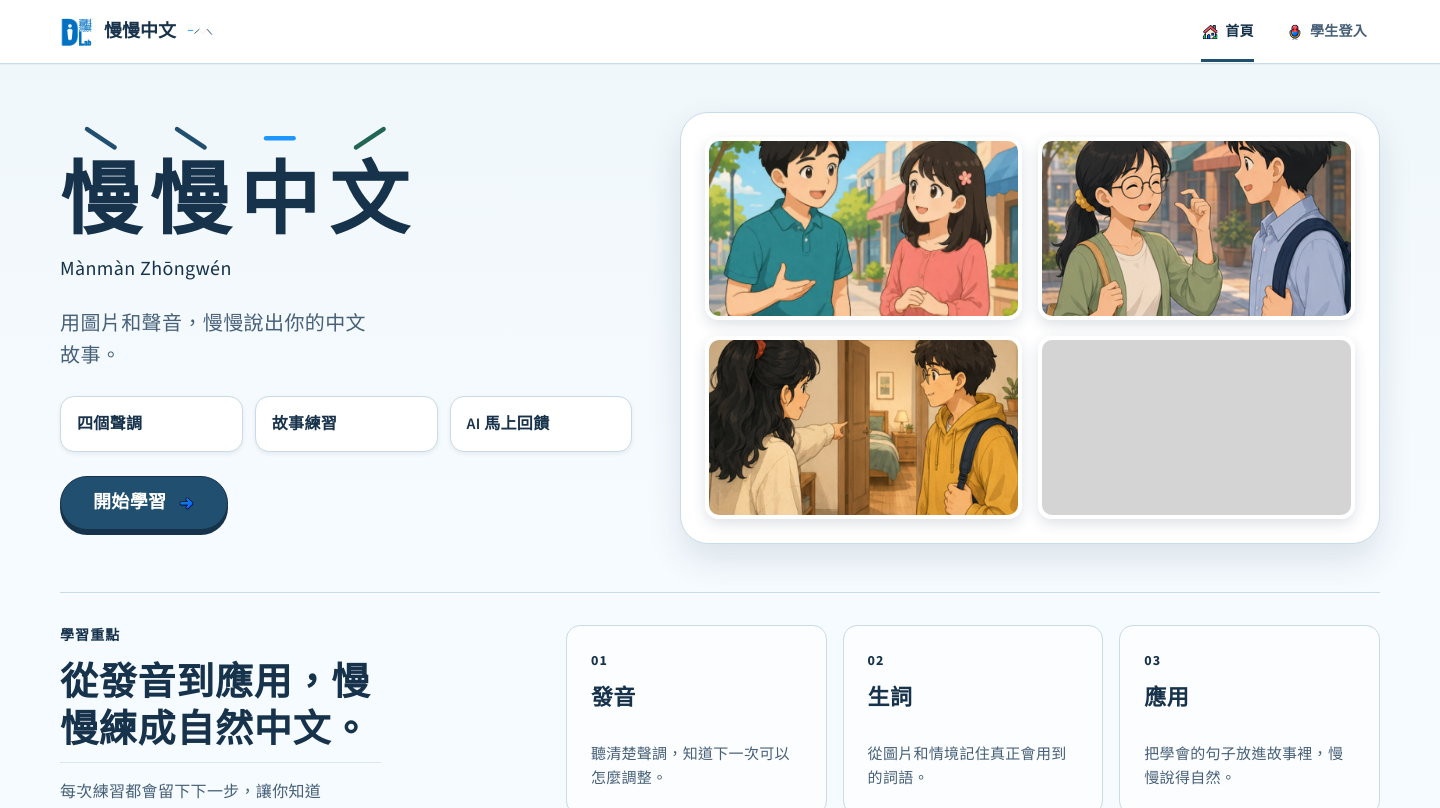
App role flows › moves from the public landing page into the learner workspace
The width and height of the screenshot is (1440, 808).
Click the button "開始學習": (144, 503) [60,476,228,530]
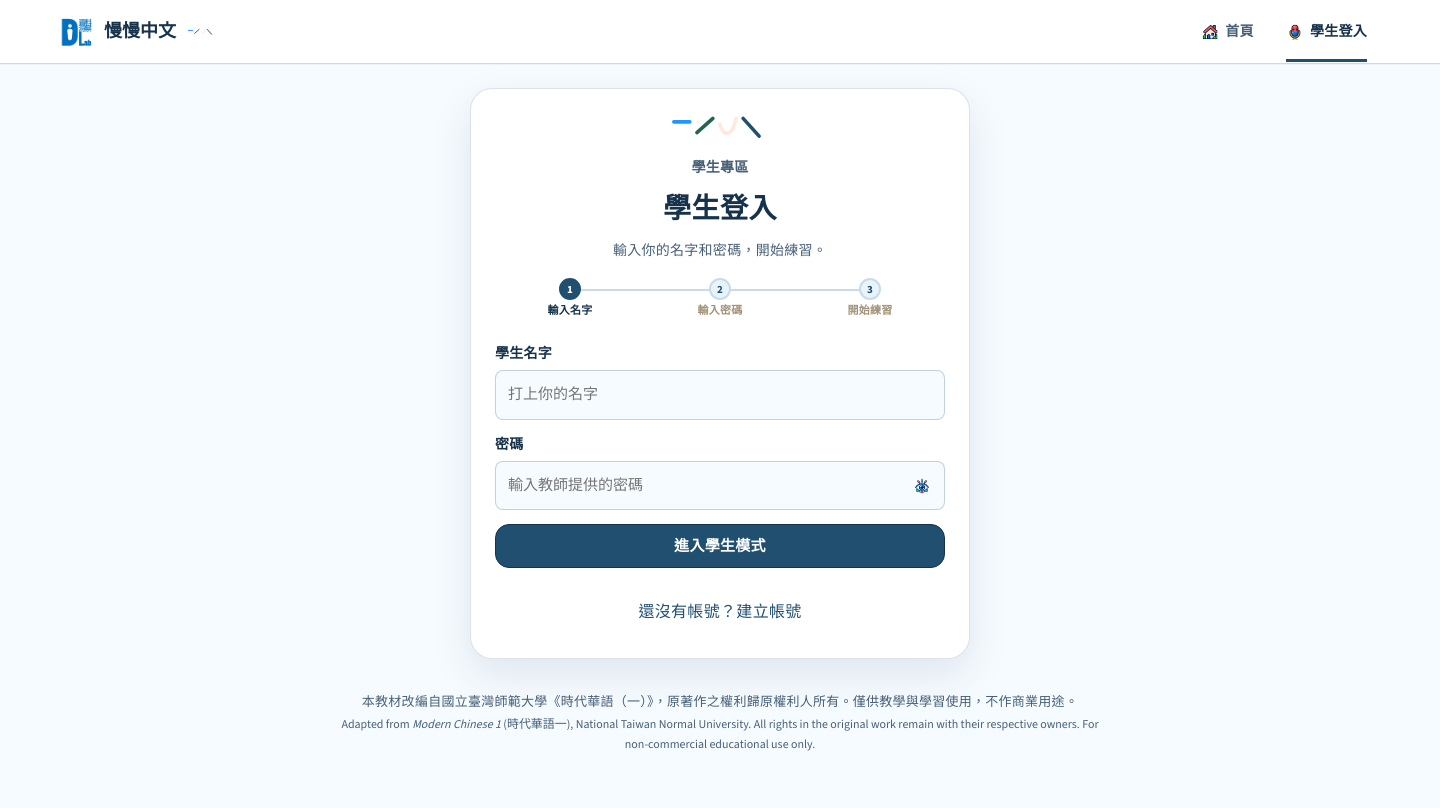
In the field with placeholder "打上你的名字": (720, 395) [495,370,945,420], type "App Flow Student"
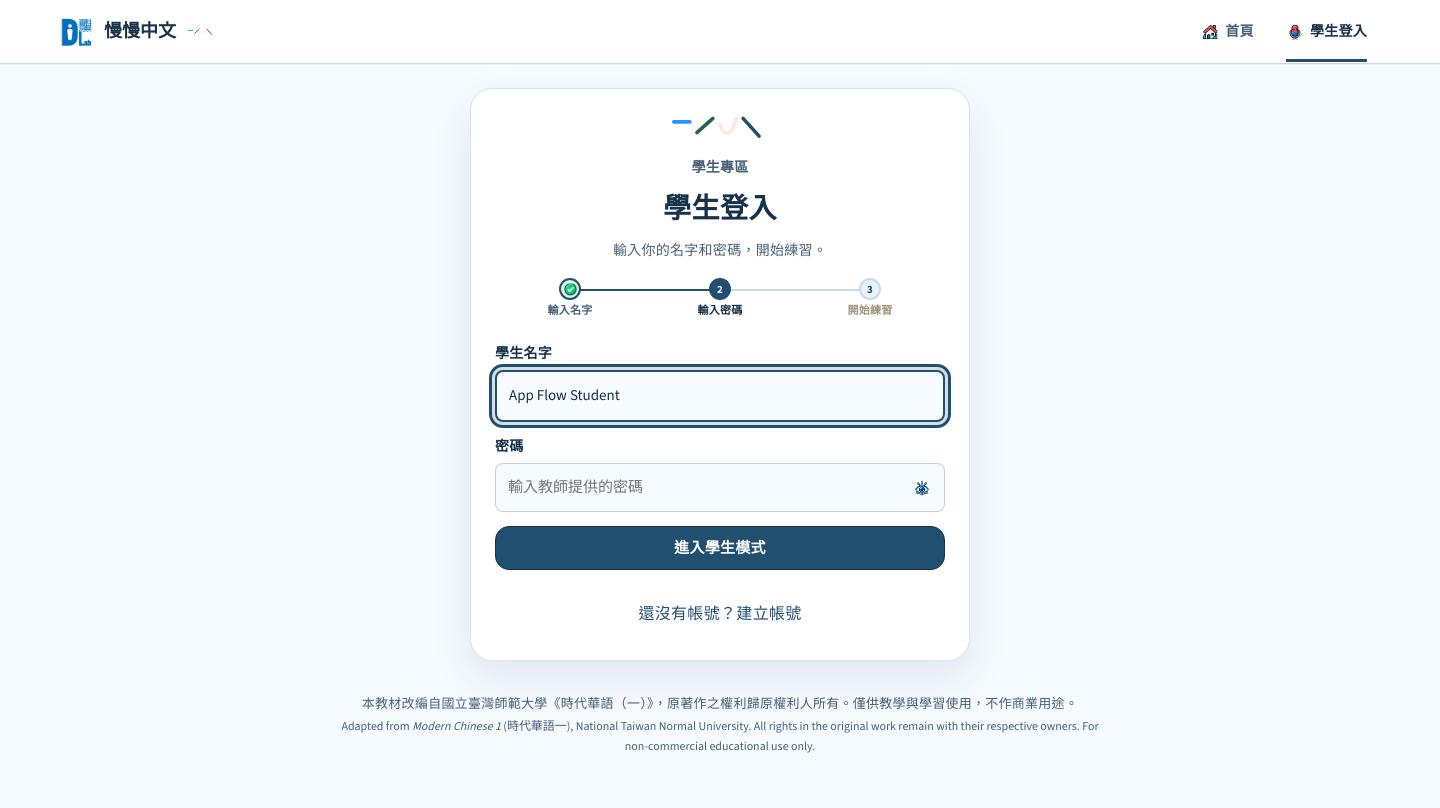
In the password field with placeholder "輸入教師提供的密碼": (720, 488) [495,463,945,512], type "123456"
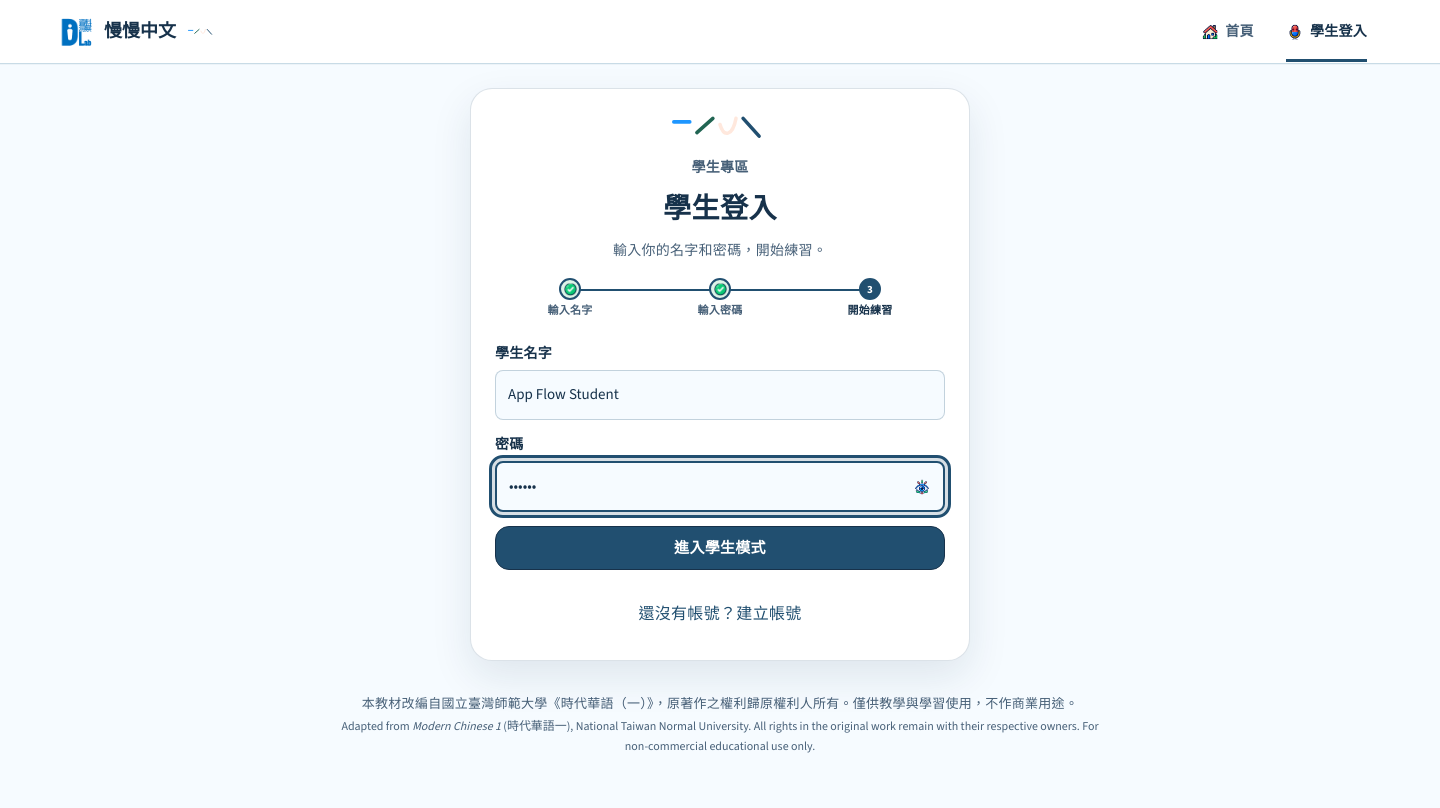
Click the button "進入學生模式": (720, 548) [495,526,945,570]
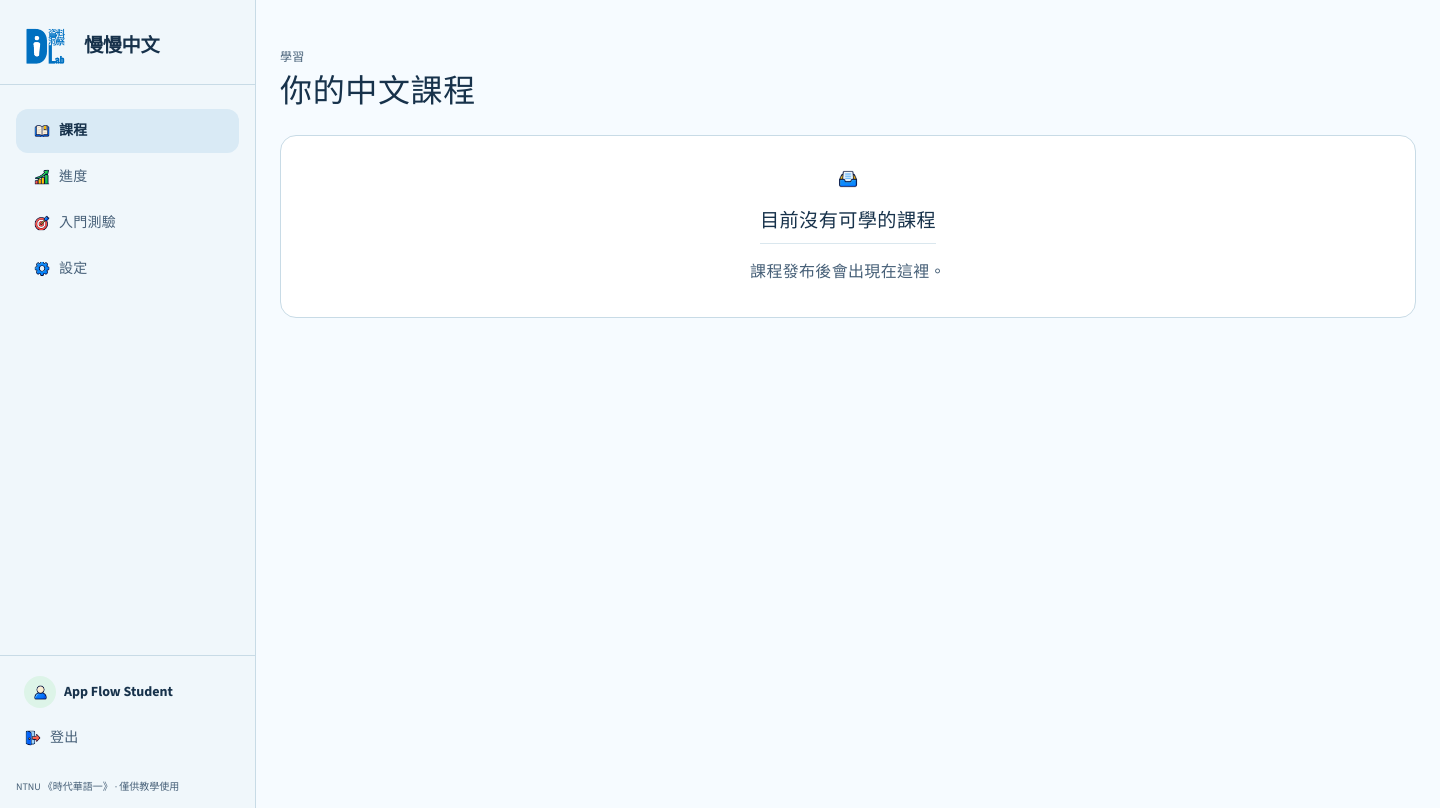
Result: the text "App Flow Student" is shown at [64,681,173,703]
